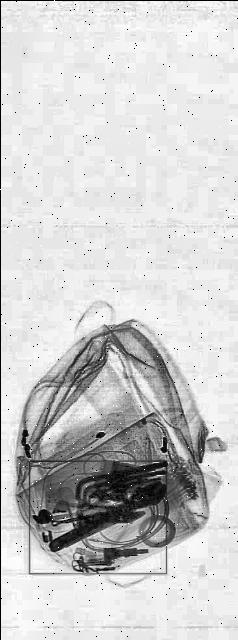Wrench: (48, 468, 166, 562)
